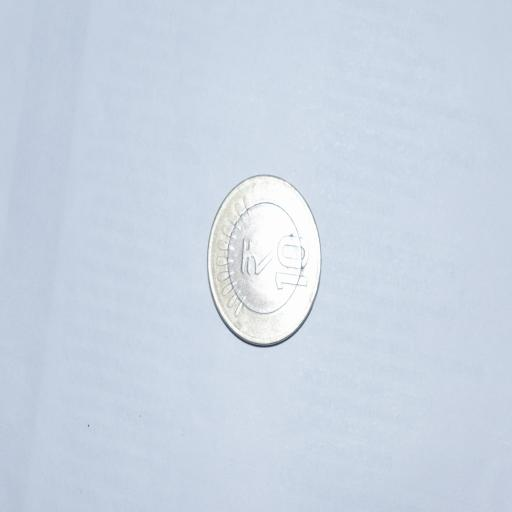rupee10: (206, 174, 322, 349)
